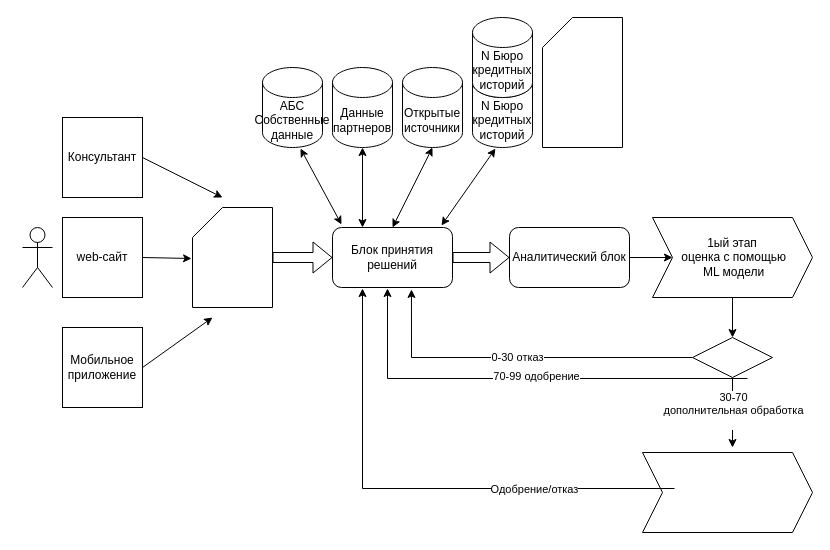
Image size: 830x550. Some labels were removed from this diagram. Here are the shapes that lost their labels. From the top down, the centre of each, then its label:
the point at 582,82: сколько и где клиент занимал, и как потом выплачивал свои долги.
the point at 37,257: Клиент
the point at 232,257: Заявление на выдачу кредита
the point at 732,357: оценка 0-99
the point at 727,492: 2ой этап оценки Выполняется вручную. Долгий ответ
